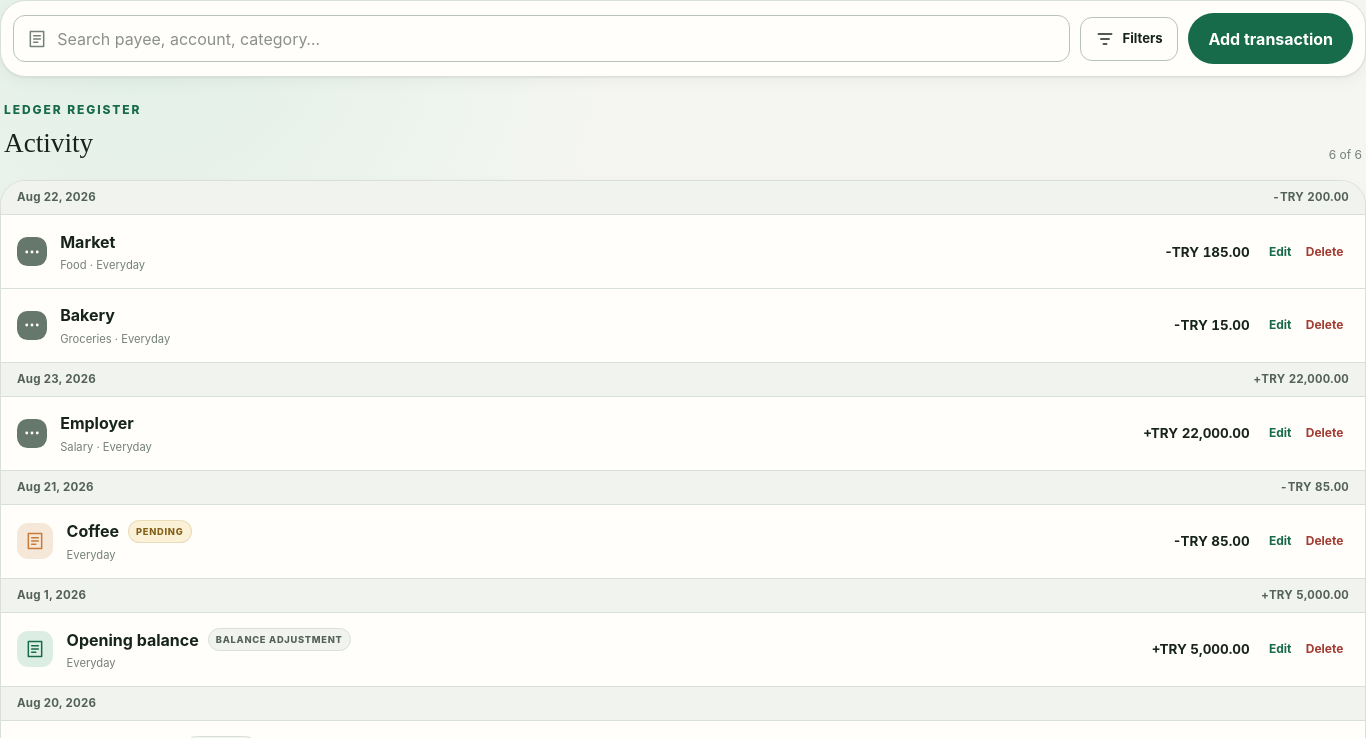
it: TransactionsPanel › confirms soft deletion and reports completion
Click the button "Delete" in the row of "-TRY 185.00": click(1325, 252) [1300,234,1349,270]
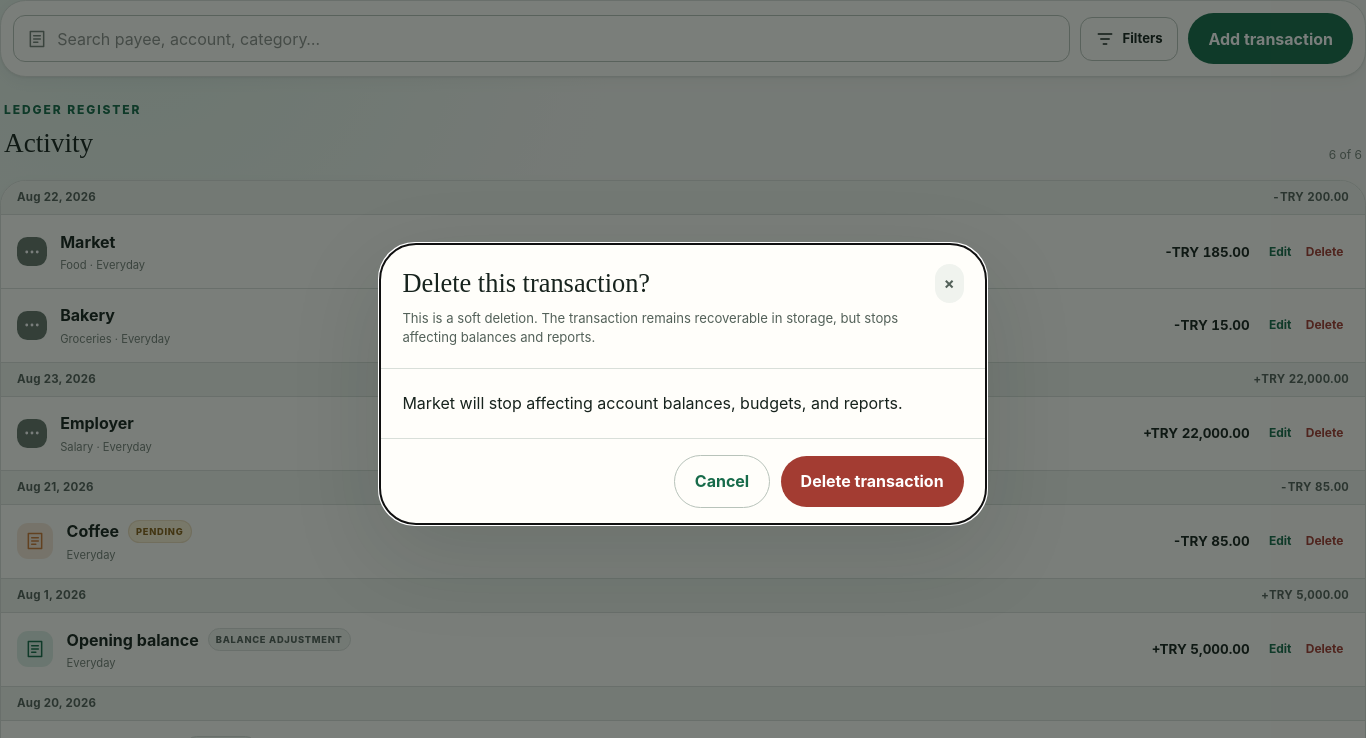
Check: the dialog "Delete this transaction?" shows "stops affecting balances and reports", box [402,310,898,345]
Click the button "Delete transaction": click(872, 481) [781,456,964,507]
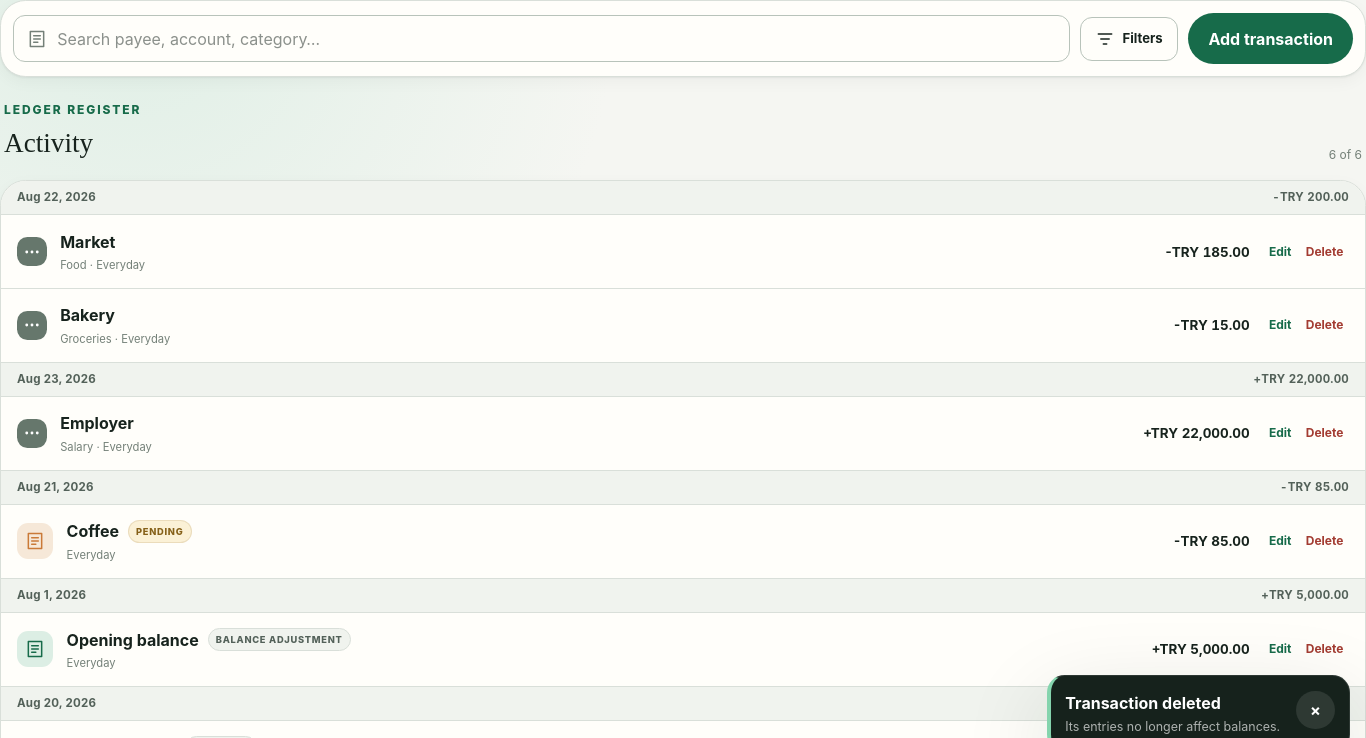
Check: the text "Transaction deleted" is shown, box [1065,693,1221,713]
